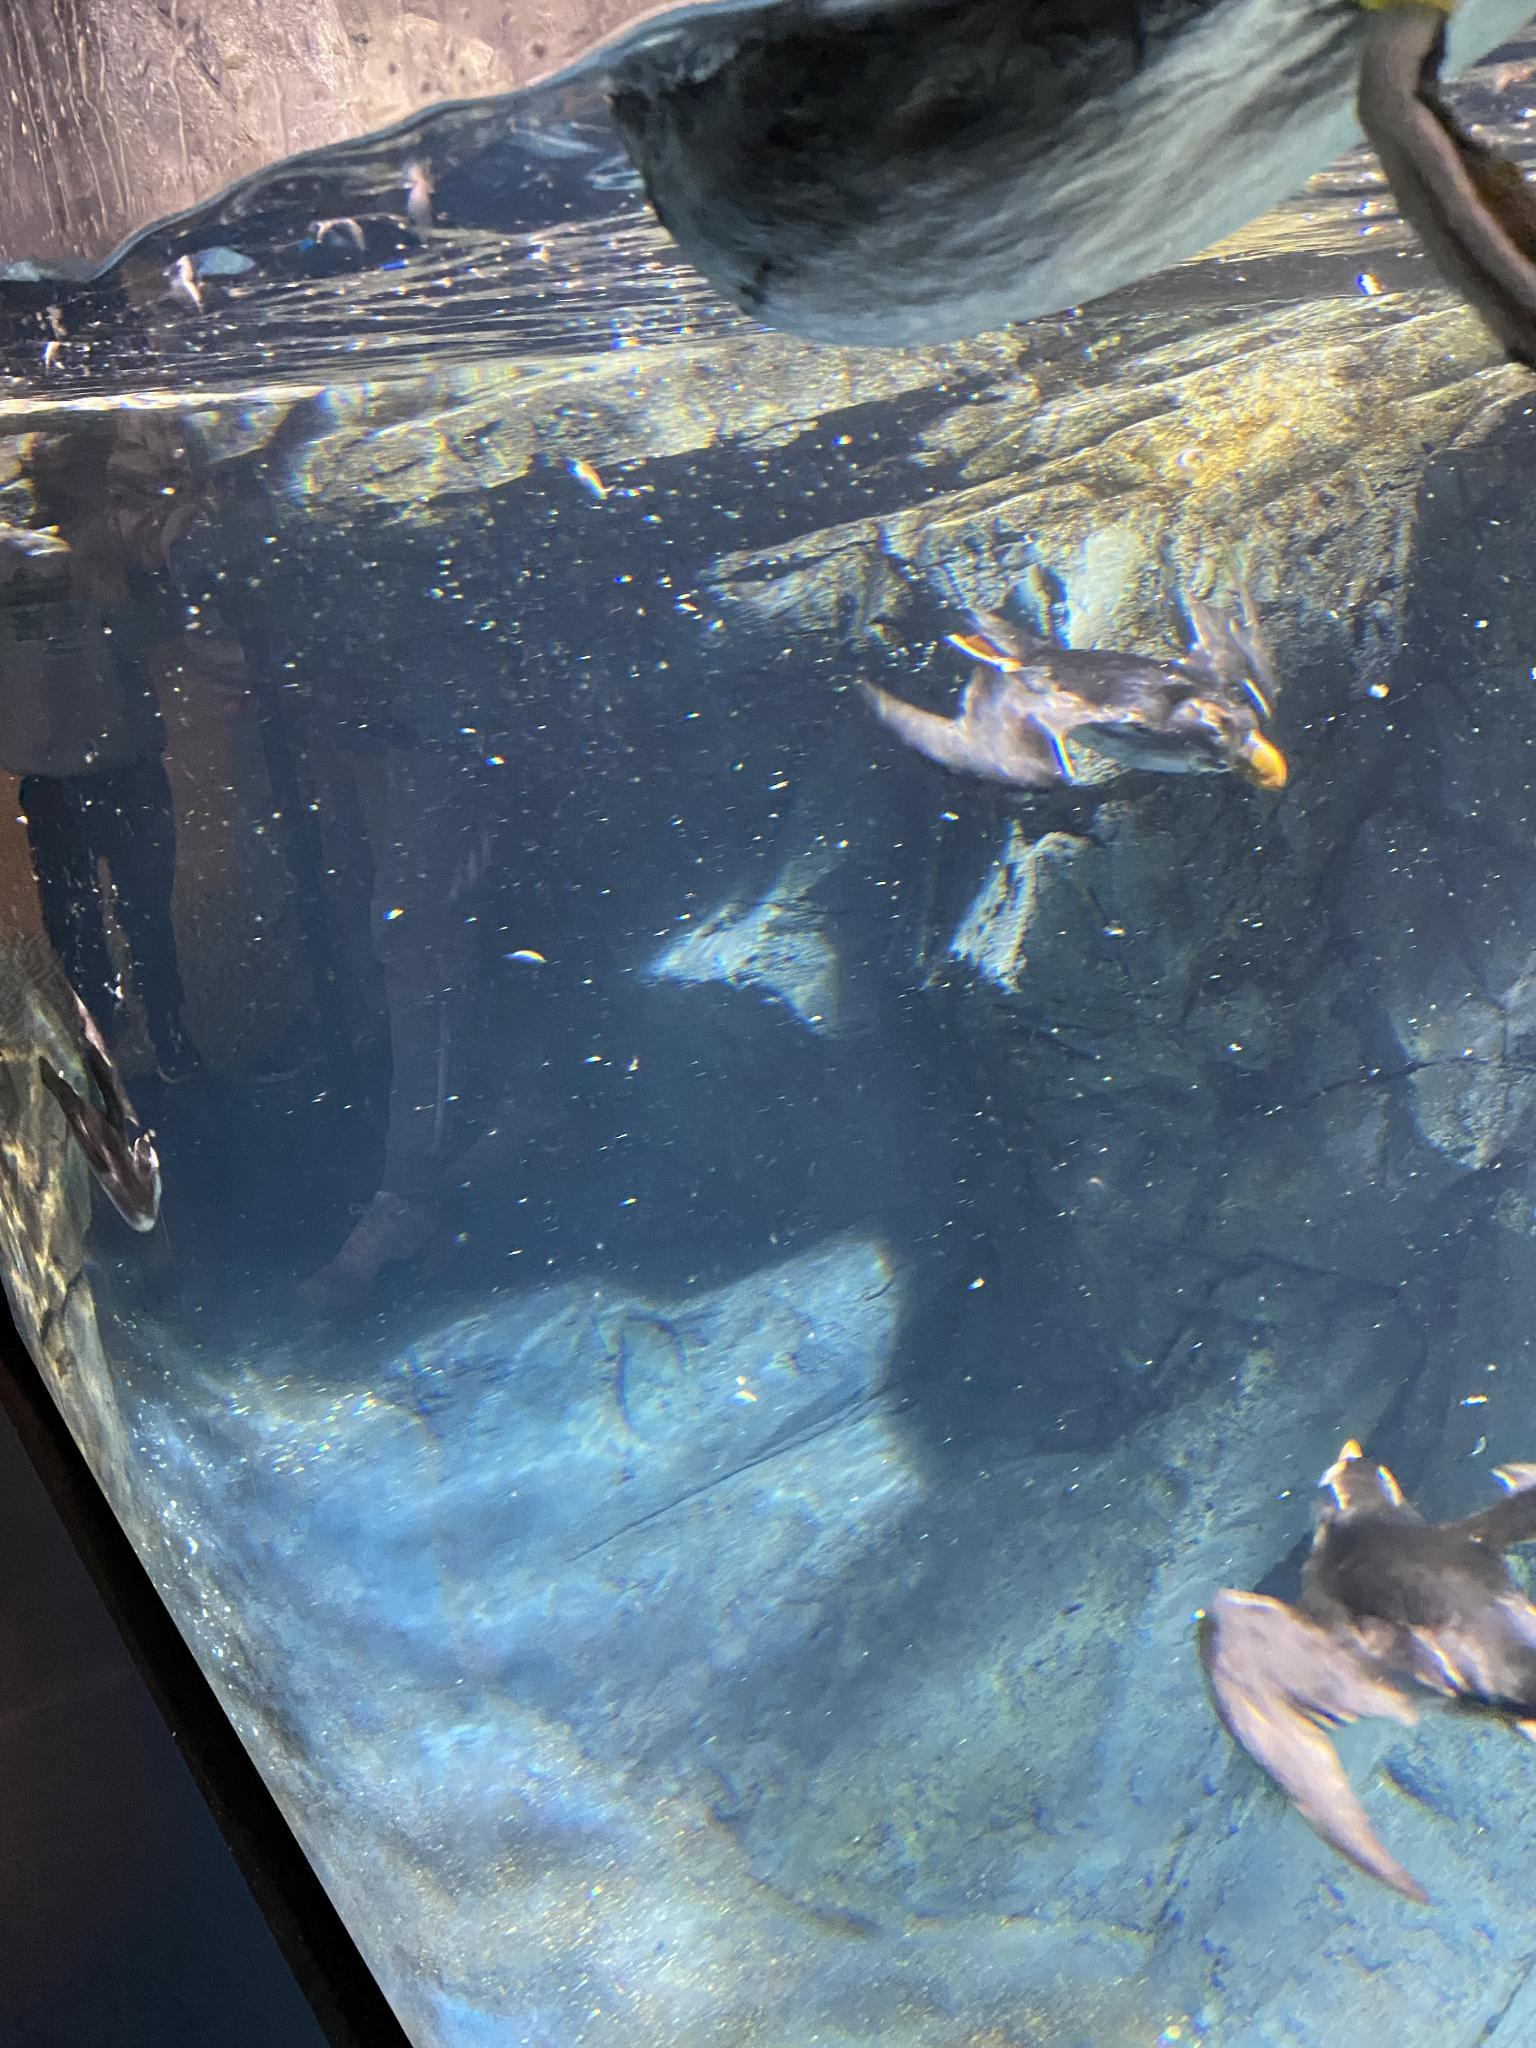puffin: (610, 0, 1534, 390), (1192, 1432, 1534, 1908), (844, 577, 1291, 795)
